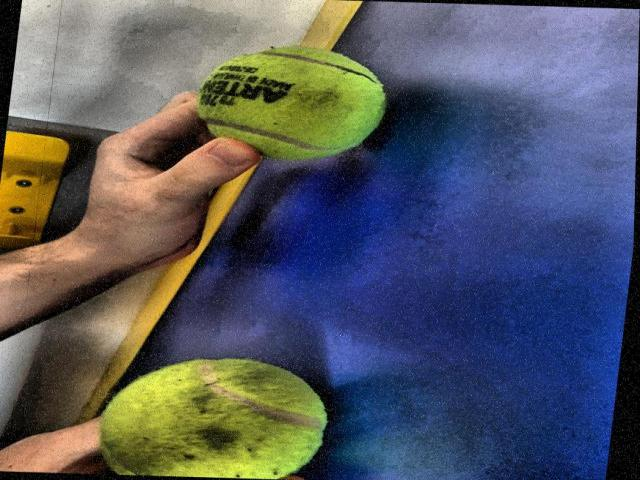tennis-ball: (100, 359, 332, 480), (197, 46, 388, 160)
